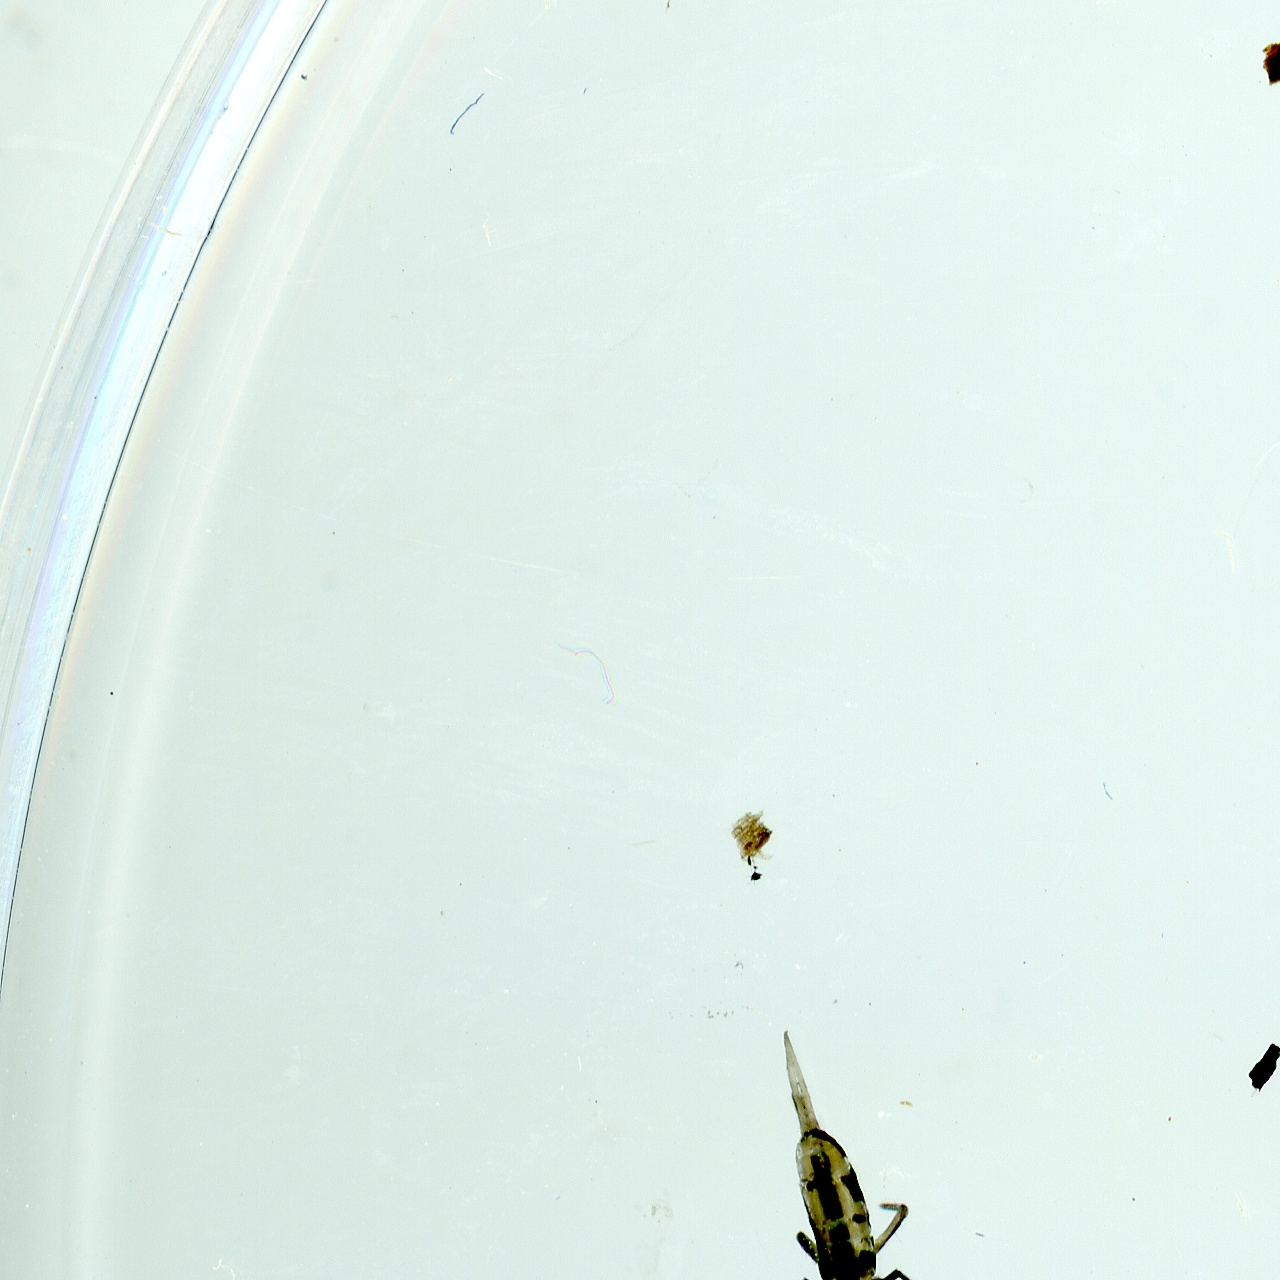arthropod: (755, 1021, 924, 1280)
